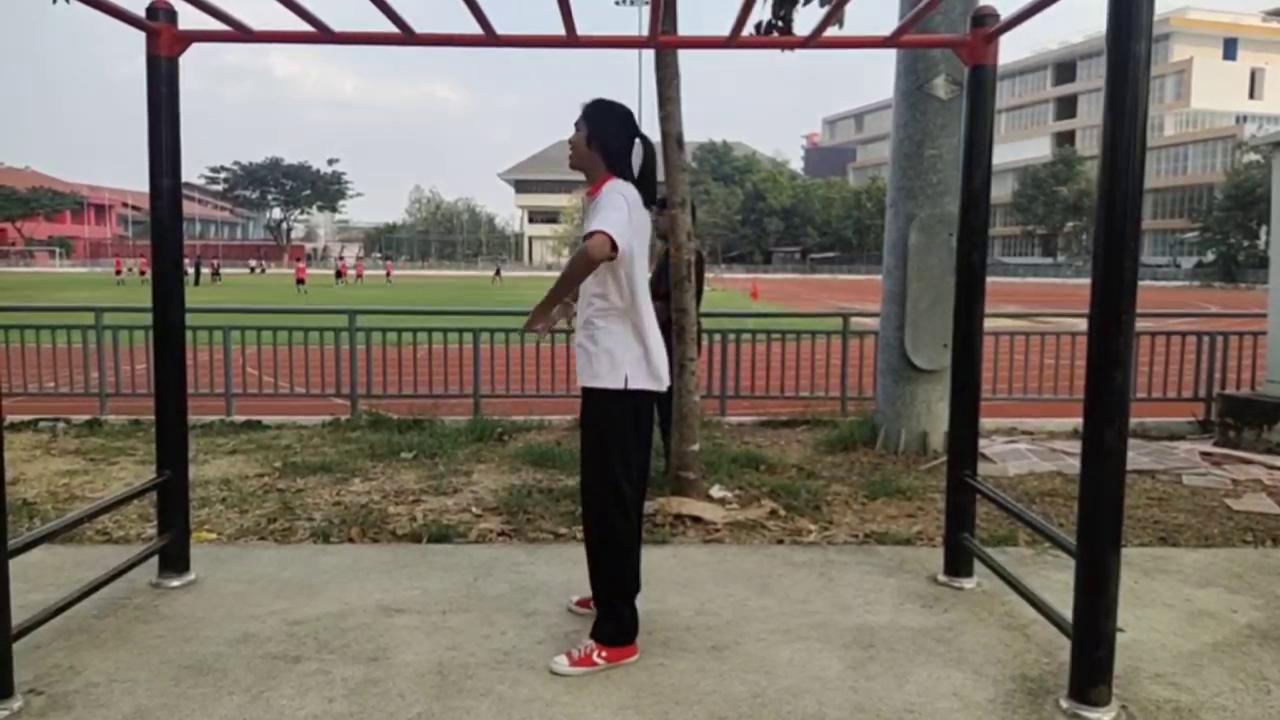squat up: (525, 100, 670, 678)
